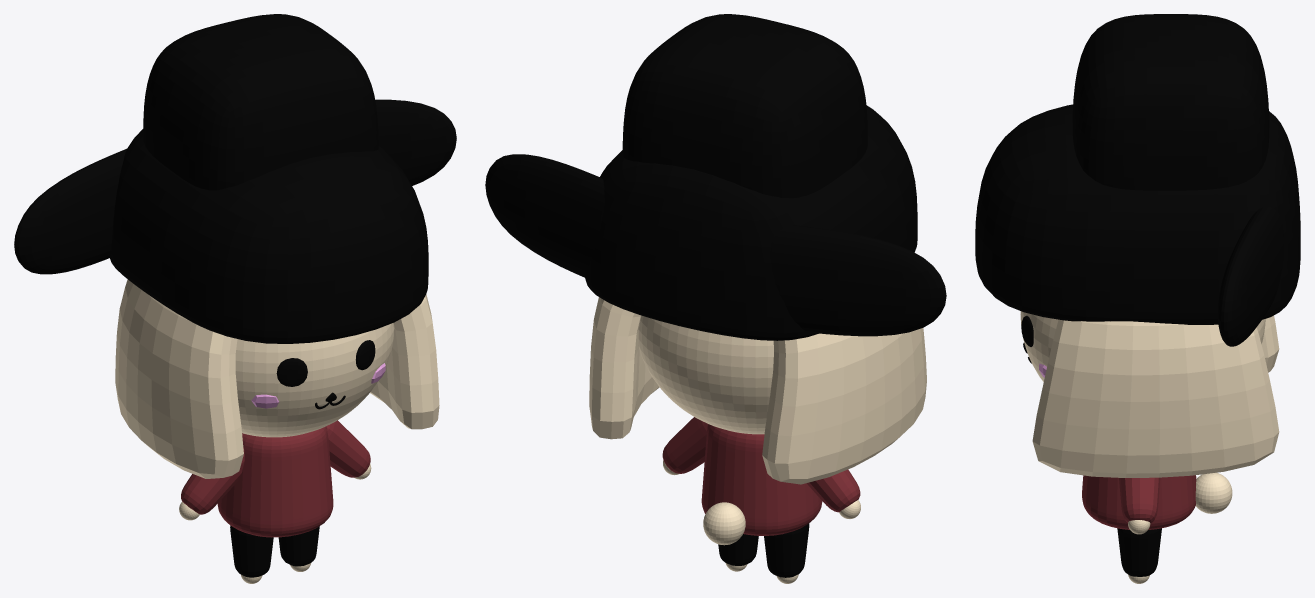
Rendered from 상균몬.glb.
3 views of the same model, side by side, from view 1: azimuth 30°, elevation 25°; view 2: azimuth 150°, elevation 25°; view 3: azimuth 270°, elevation 25° (orthographic). The views are drawn at different scales.
Visible parts, largest first — view 1: 빌5/상균몬; view 2: 빌5/상균몬; view 3: 빌5/상균몬.
Boxes of the visible parts, x1,y1,x2,y2 form: 빌5/상균몬: [14, 14, 456, 583]; 빌5/상균몬: [485, 14, 946, 583]; 빌5/상균몬: [975, 14, 1300, 583].
Bounding box in the file's own units: 2.62 × 2.99 × 1.65.
